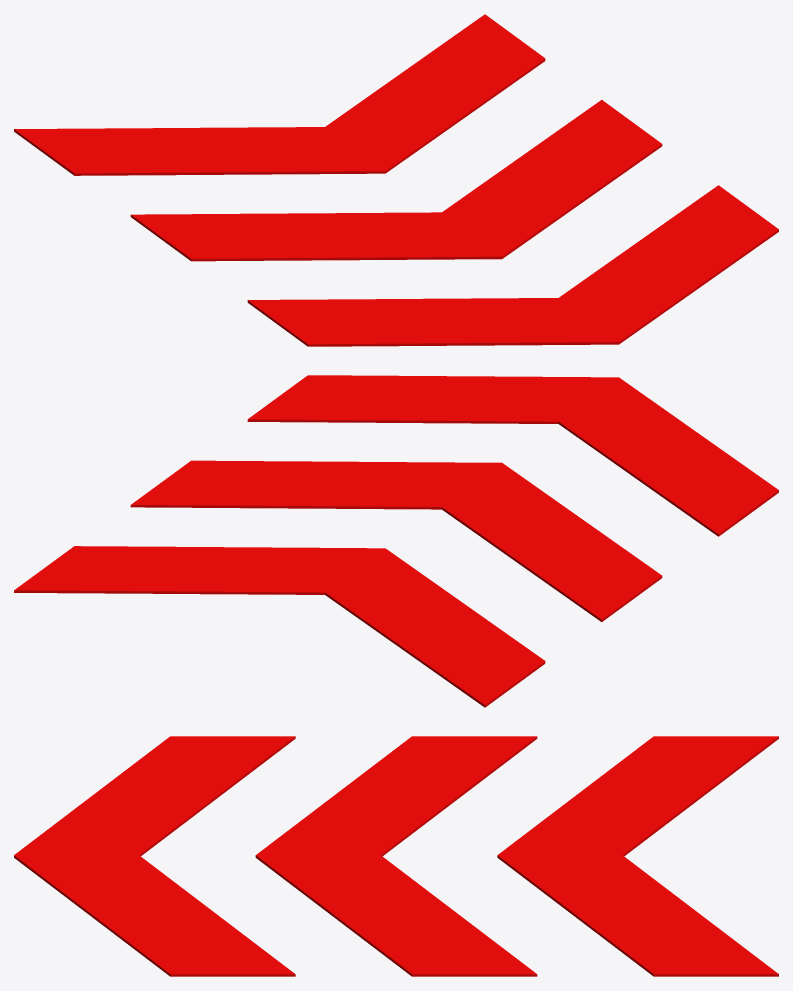
The model's file is booster_kleur.glb.
The picture shows the model from 3 angles, top to bottom: view 1: azimuth 30°, elevation 25°; view 2: azimuth 150°, elevation 25°; view 3: azimuth 270°, elevation 25°; orthographic projection. The views are drawn at different scales.
Parts seen in each view (by area): view 1: Cube.002, Cube.001, Cube.003; view 2: Cube.002, Cube.001, Cube.003; view 3: Cube.002, Cube.001, Cube.003.
Boxes of the visible parts, box(x1,y1,x2,y2) form: Cube.002: box(130, 100, 662, 261); Cube.001: box(247, 185, 778, 346); Cube.003: box(14, 14, 545, 175); Cube.002: box(130, 460, 662, 621); Cube.001: box(247, 375, 778, 536); Cube.003: box(14, 546, 545, 707); Cube.002: box(255, 736, 537, 976); Cube.001: box(14, 736, 295, 976); Cube.003: box(497, 736, 778, 976).
Size of the model in its own units: 0.4416 by 0.00224 by 0.5999.
